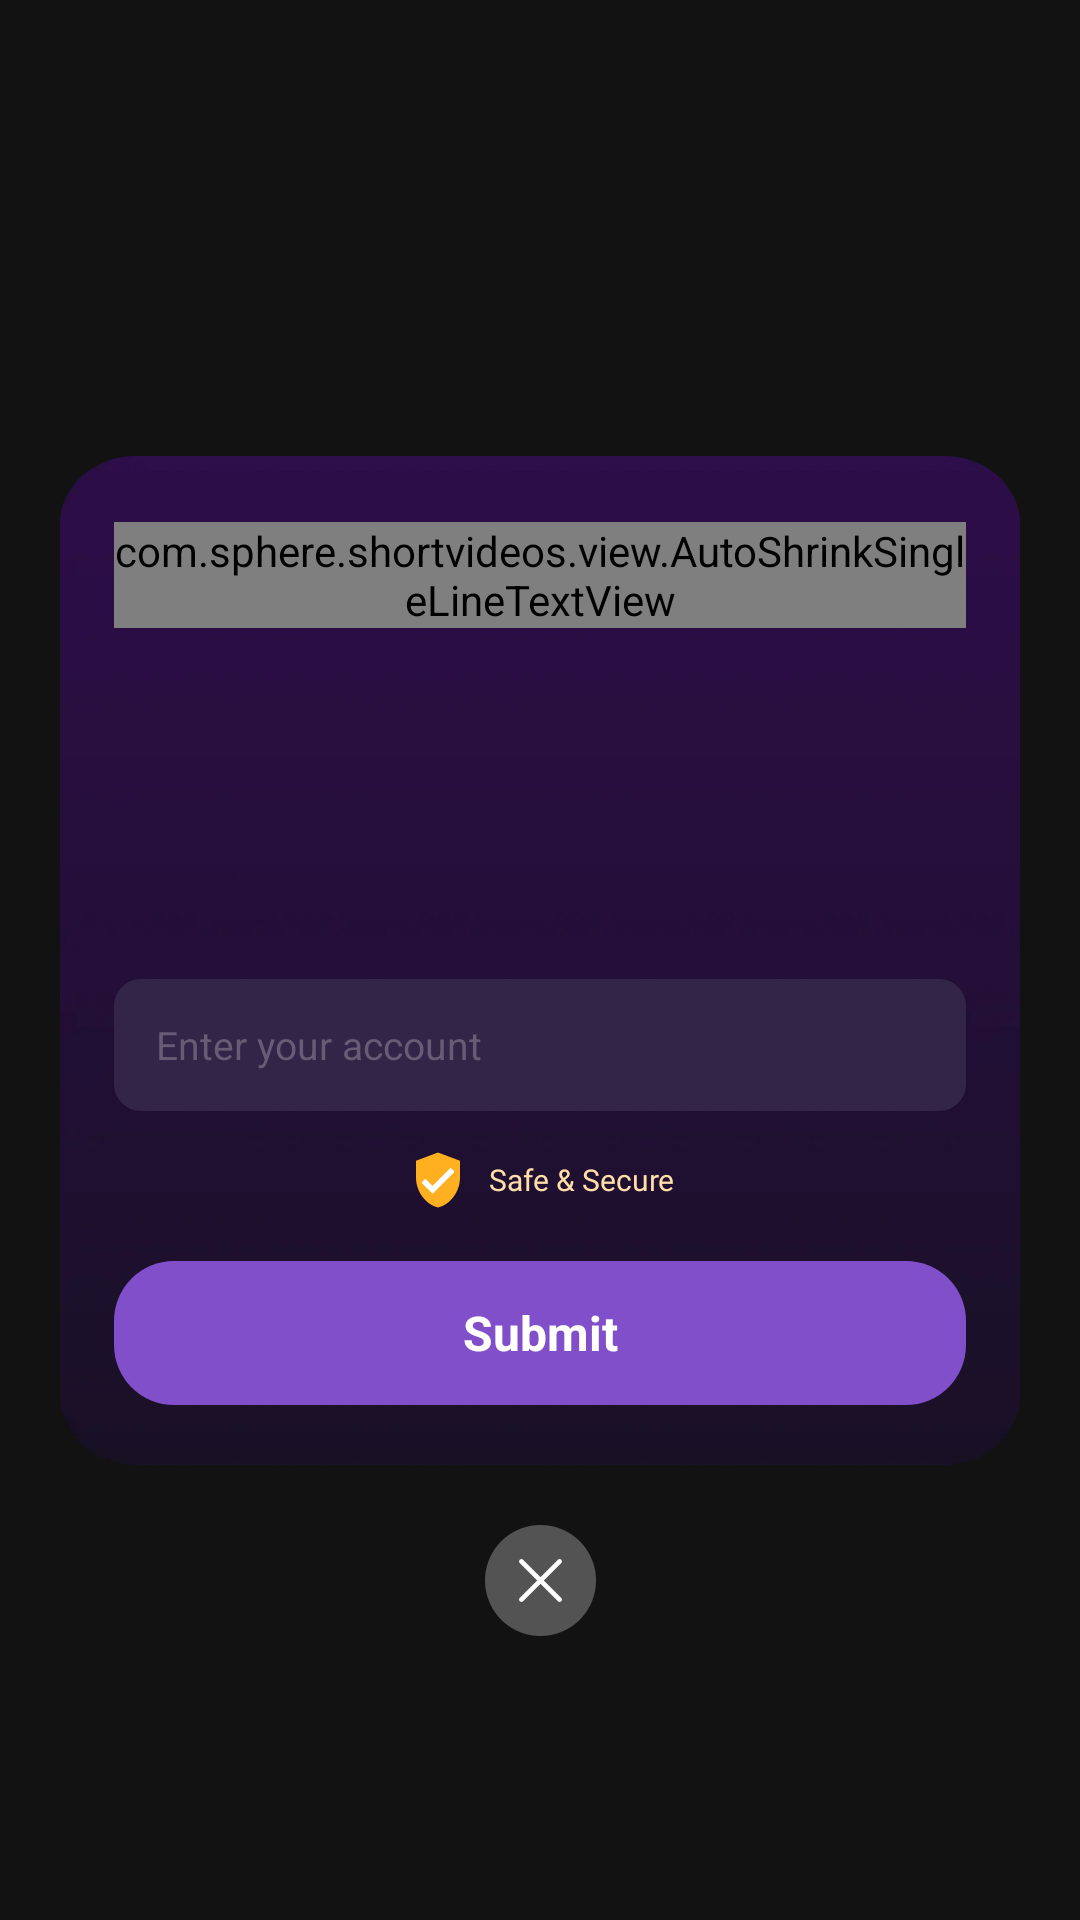

Point at icon controls on the screen. Image size 1080px×1920px, points as (x=x, y=y).
close: (x=540, y=1580)
payment safe shield: (x=438, y=1180)
